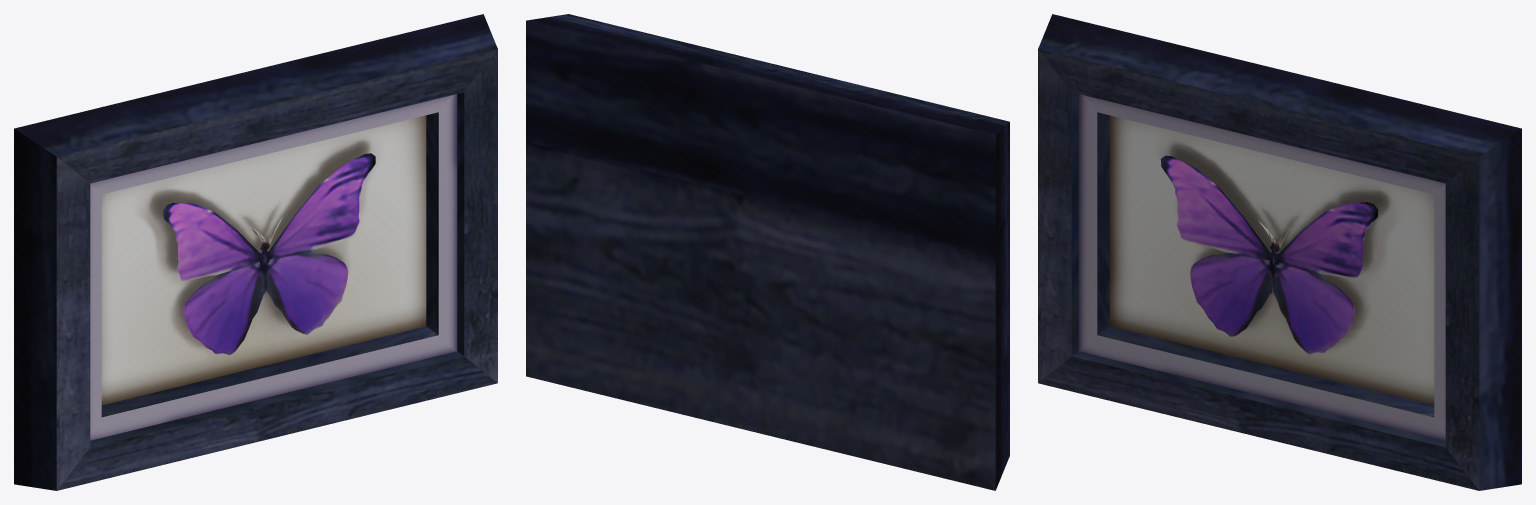
The model's file is MorphoFramePurple_HD.fbx.
The picture shows the model from 3 angles, left to right: view 1: azimuth 30°, elevation 25°; view 2: azimuth 150°, elevation 25°; view 3: azimuth 330°, elevation 25°; orthographic projection.
Visible parts, largest first — view 1: MorphoFramePurple, Plane; view 2: MorphoFramePurple; view 3: MorphoFramePurple, Plane.
Part boxes in pixels (<box>): MorphoFramePurple: <box>14,14,497,490</box>; Plane: <box>163,153,375,354</box>; MorphoFramePurple: <box>526,14,1009,490</box>; MorphoFramePurple: <box>1038,14,1521,490</box>; Plane: <box>1160,155,1378,354</box>.
Size of the model in its own units: 0.9941 by 0.72 by 0.1039.
